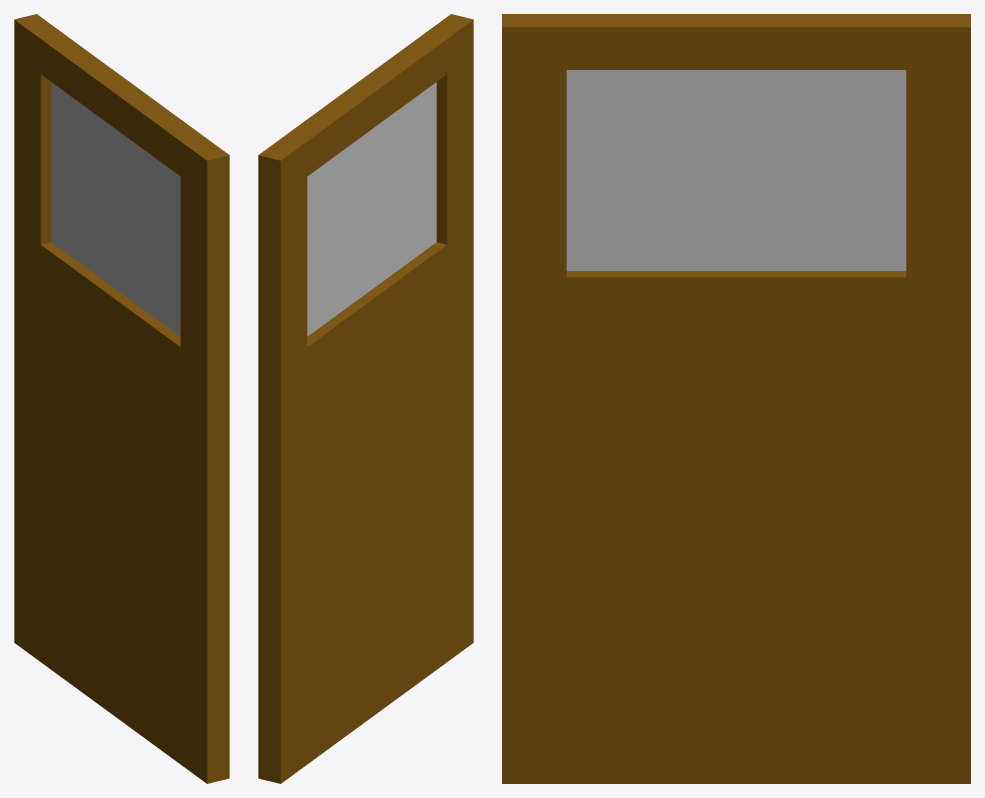
Rendered from Door.fbx.
The picture shows the model from 3 angles, left to right: view 1: azimuth 30°, elevation 25°; view 2: azimuth 150°, elevation 25°; view 3: azimuth 270°, elevation 25°; orthographic projection. The views are drawn at different scales.
Parts seen in each view (by area): view 1: Door_1.002; view 2: Door_1.002; view 3: Door_1.002.
Boxes of the visible parts, <box> form: Door_1.002: <box>14,14,229,783</box>; Door_1.002: <box>258,14,473,783</box>; Door_1.002: <box>502,14,970,783</box>.
Size of the model in its own units: 8 by 211 by 118.
